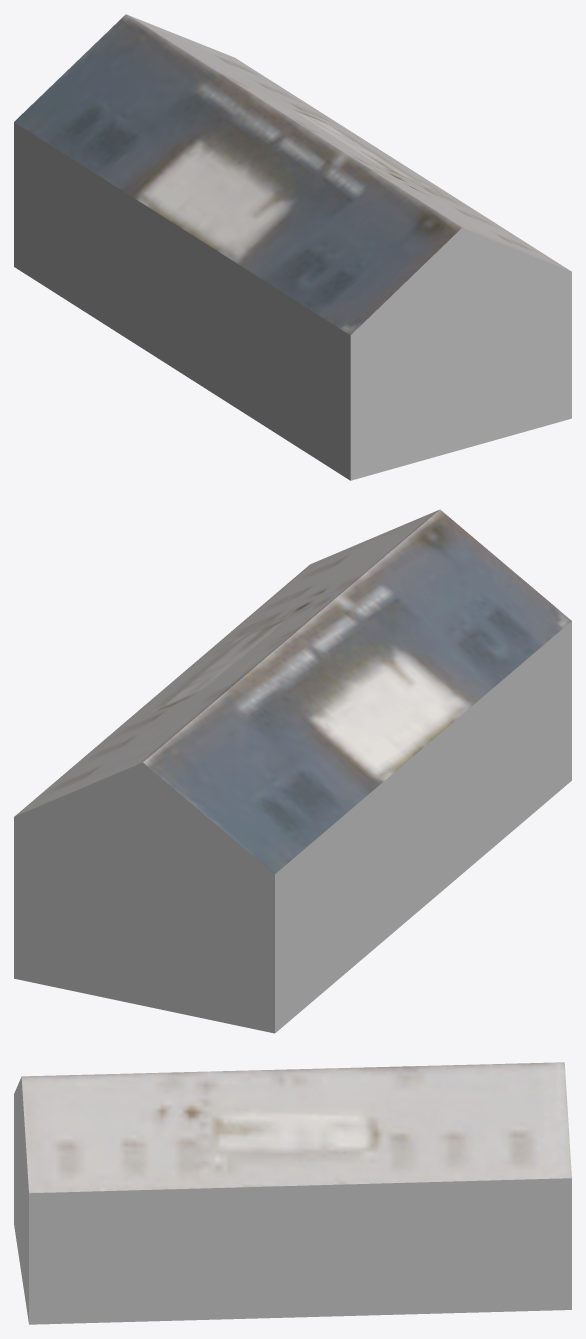
Rendered from DEBW_0010007Txah.gltf.
3 renders of one model, top to bottom at view 1: azimuth 30°, elevation 25°; view 2: azimuth 150°, elevation 25°; view 3: azimuth 270°, elevation 25°, orthographic. The views are drawn at different scales.
Visible parts, largest first — view 1: Z_UP; view 2: Z_UP; view 3: Z_UP.
Boxes of the visible parts, bbox=[...] form: Z_UP: bbox=[14, 14, 571, 480]; Z_UP: bbox=[14, 509, 571, 1033]; Z_UP: bbox=[14, 1062, 571, 1324].
Bounding box in the file's own units: 13.72 × 11.05 × 28.15.
Materials: 2 (1 with a texture image).
